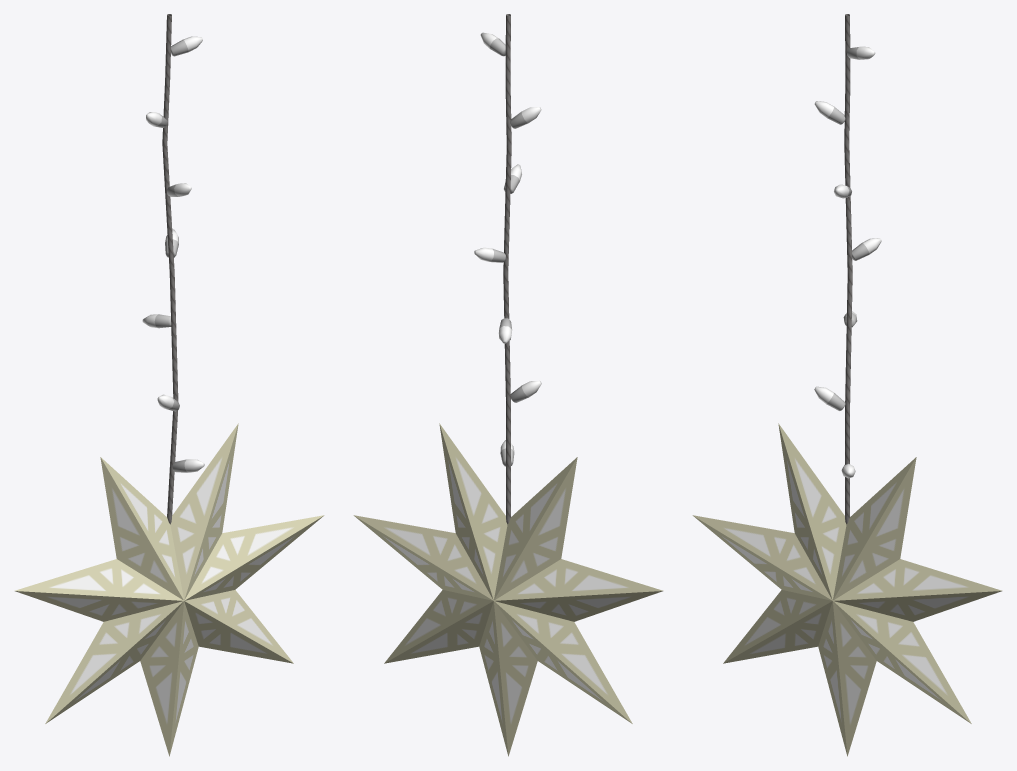
The model's file is PartyHangingStar01B_2.FBX.
3 views of the same model, side by side, from view 1: azimuth 30°, elevation 25°; view 2: azimuth 150°, elevation 25°; view 3: azimuth 330°, elevation 25° (orthographic).
Visible parts, largest first — view 1: PartyHangingStar01B_2; view 2: PartyHangingStar01B_2; view 3: PartyHangingStar01B_2.
Part boxes in pixels (box(x1,y1,x2,y2)): PartyHangingStar01B_2: box(14, 14, 324, 756); PartyHangingStar01B_2: box(353, 14, 663, 756); PartyHangingStar01B_2: box(692, 14, 1002, 756).
Size of what is drawn, in the model's own units: 0.3508 by 0.8 by 0.0629.
